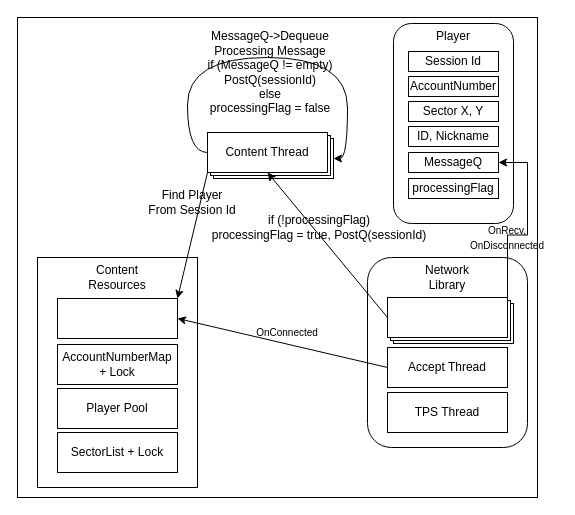
This 575x515 diagram has some shape labels left out. Each missing label, with the centre of its shape:
IOCP Worker Thread: pixel 447 317
PlayerMap + Lock: pixel 117 318
